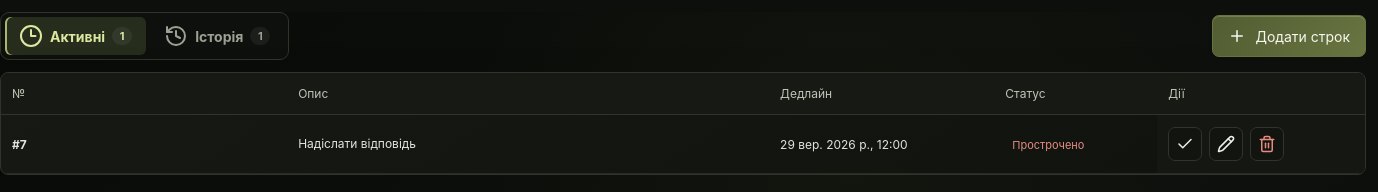
DeadlineControlPanel › shows completed items in a separate history view
Expected: the text "Надіслати відповідь" is shown, [287,114,769,174]
Step 1. Click the button "Історія 1" → click(217, 36), box [150,17,284,55]
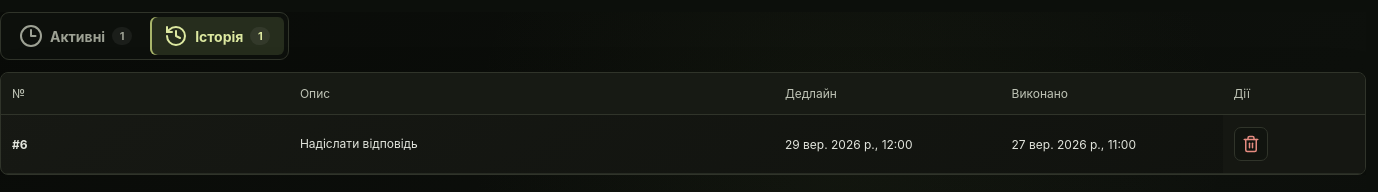
Now the text "#6" is shown, box [12,136,28,152]
